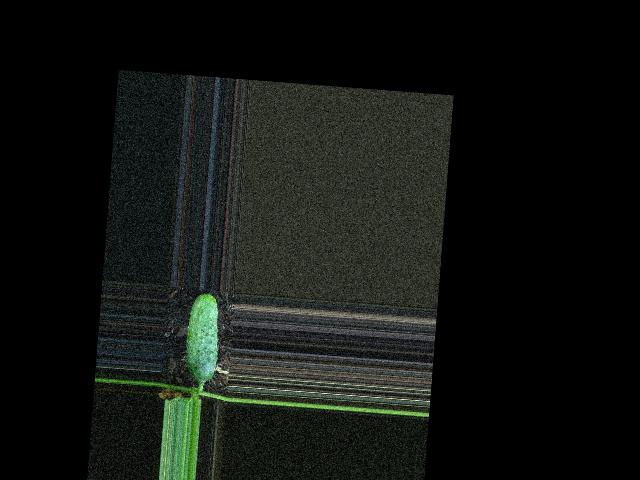cucumber: (183, 291, 222, 382)
